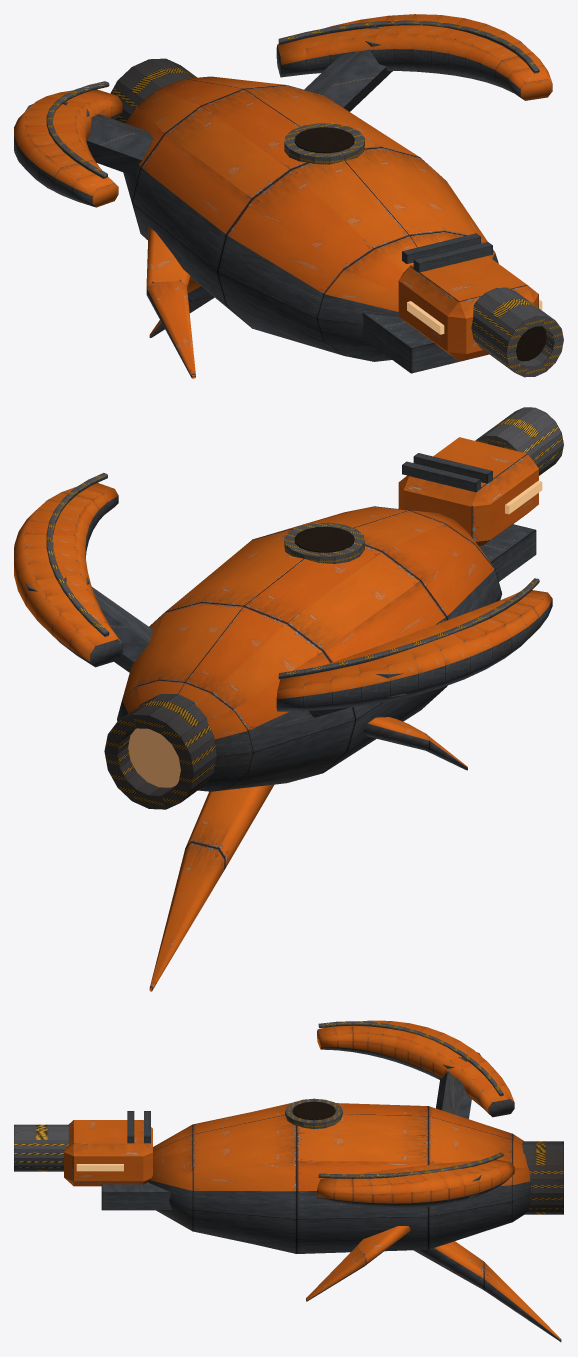
File: pioneer-saturn-l03-laser.glb
3 views of the same model, one above another, from view 1: azimuth 30°, elevation 25°; view 2: azimuth 150°, elevation 25°; view 3: azimuth 270°, elevation 25° (orthographic). The views are drawn at different scales.
Visible parts, largest first — view 1: Drone; view 2: Drone; view 3: Drone.
Boxes of the visible parts, left/top/right/bottom form: Drone: left=14, top=14, right=563, bottom=378; Drone: left=14, top=407, right=563, bottom=991; Drone: left=14, top=1020, right=563, bottom=1341.
Bounding box in the file's own units: 1.04 × 0.6961 × 1.42.
Materials: 3 (3 with a texture image).
